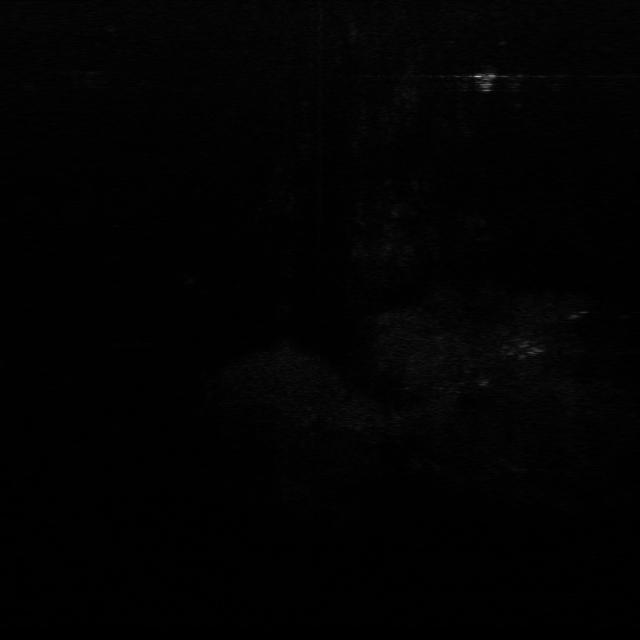rov: (472, 69, 501, 95)
